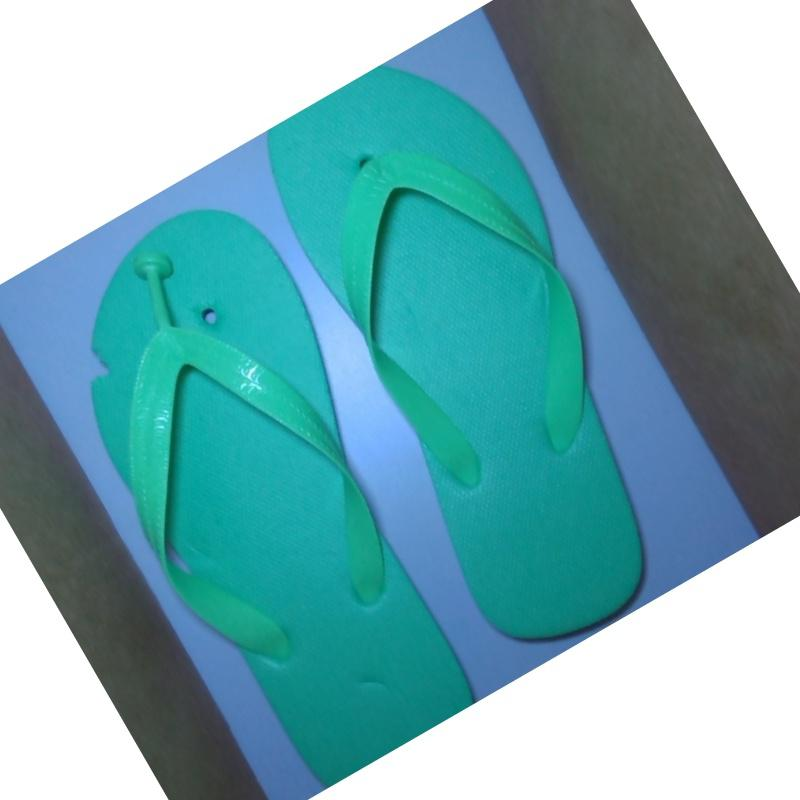chipped: (77, 331, 123, 396)
detached: (128, 247, 182, 304)
